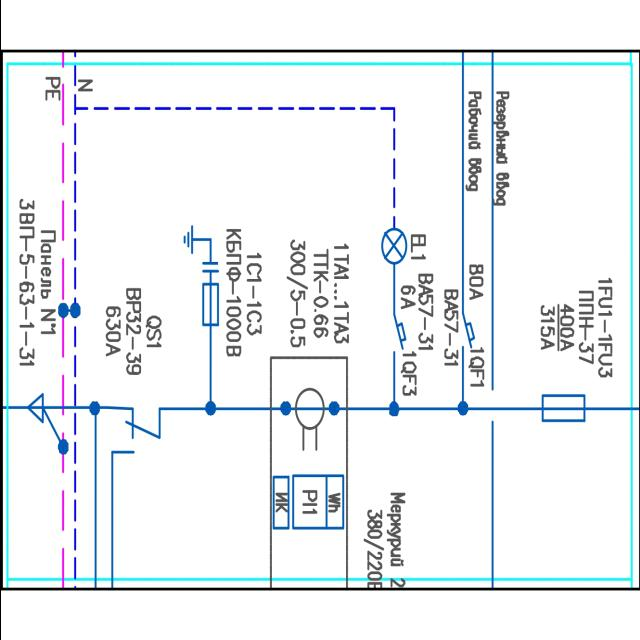-: (536, 276, 596, 382), (286, 234, 331, 352), (363, 490, 411, 594), (103, 284, 143, 380), (16, 194, 36, 370), (398, 270, 433, 352), (440, 286, 460, 370), (465, 256, 487, 306)
FU: (539, 392, 588, 424)
HL: (380, 226, 408, 266)
QF: (457, 305, 477, 358), (389, 310, 406, 359)
TT: (278, 386, 339, 454)
WH: (290, 471, 344, 532)
switch: (126, 405, 161, 455)
